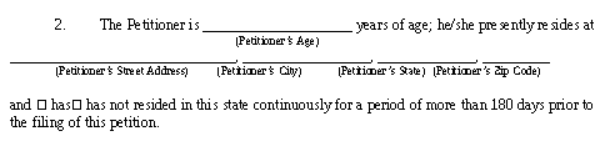checkbox: (36, 98, 48, 111), (70, 98, 82, 111)
textline: (7, 45, 237, 65), (201, 15, 354, 34), (240, 47, 373, 65), (374, 48, 478, 65), (480, 49, 550, 65)
